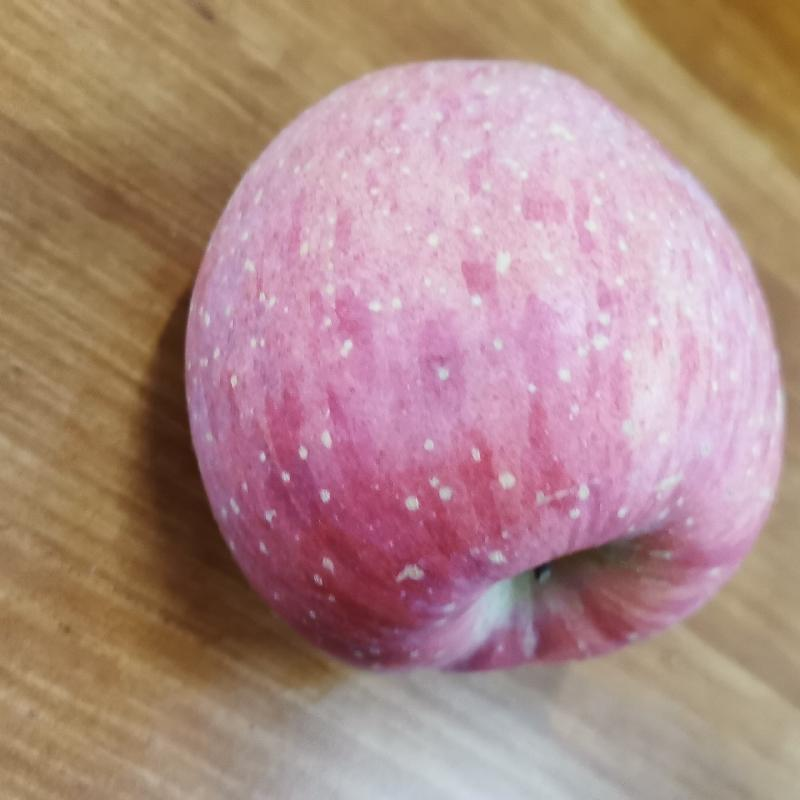apples: (173, 55, 780, 678)
